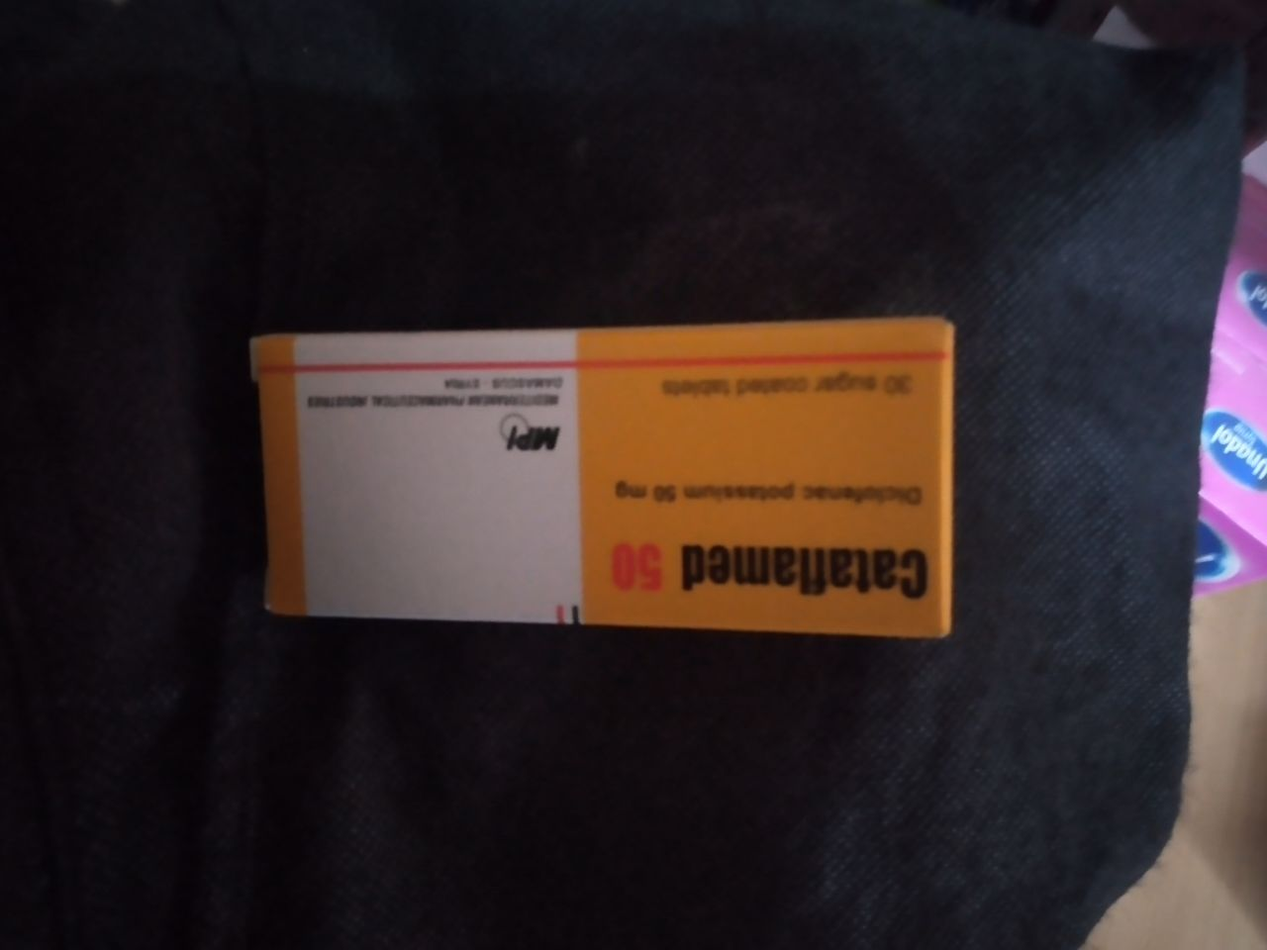Medicine: (238, 314, 955, 665)
